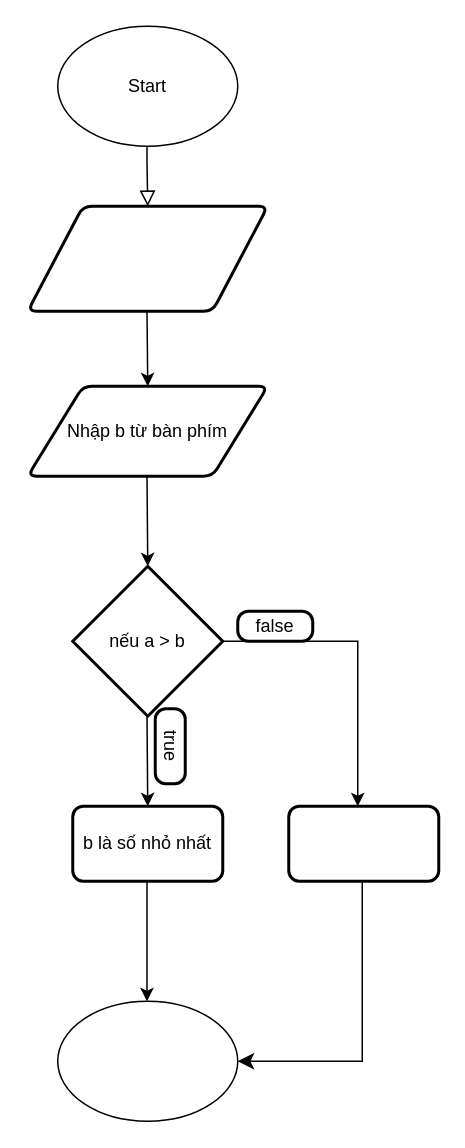
Image size: 465x1148. Some labels were removed from this diagram. The shapes that lost their labels are listed below. From the top down, each one's box as (x1, y1, x2, y2) in pixels, then its label:
(26, 204, 268, 312): Nhập a từ bàn phím
(286, 804, 440, 882): a là số nhỏ nhất
(56, 1000, 238, 1121): END
